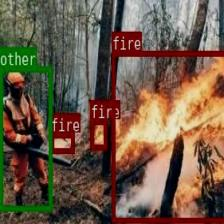fire: (111, 50, 224, 222), (89, 118, 106, 149), (50, 132, 74, 152)
